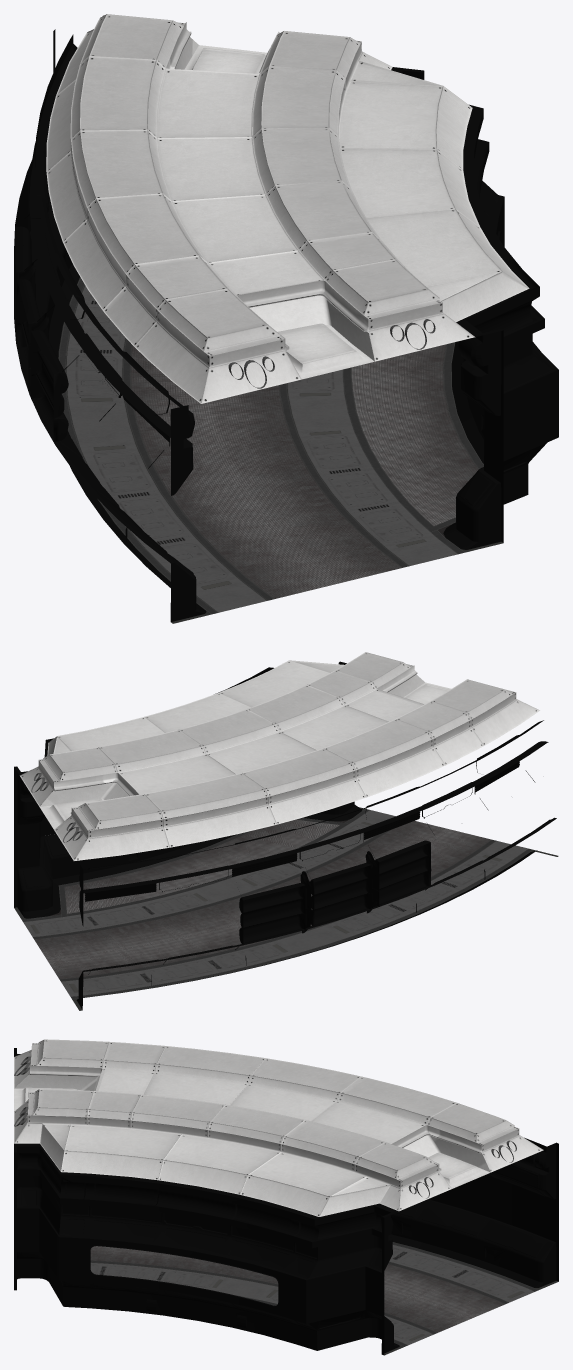
Rendered from HallwayWindowBendA.fbx.
The picture shows the model from 3 angles, top to bottom: view 1: azimuth 30°, elevation 25°; view 2: azimuth 150°, elevation 25°; view 3: azimuth 270°, elevation 25°; orthographic projection. The views are drawn at different scales.
Visible parts, largest first — view 1: HallwayWindowBendA001; view 2: HallwayWindowBendA001; view 3: HallwayWindowBendA001.
Boxes of the visible parts, box(x1,y1,x2,y2) form: HallwayWindowBendA001: box(14, 14, 558, 623); HallwayWindowBendA001: box(14, 652, 558, 1010); HallwayWindowBendA001: box(14, 1039, 558, 1355).
Size of the model in its own units: 1096 by 478 by 1433.
